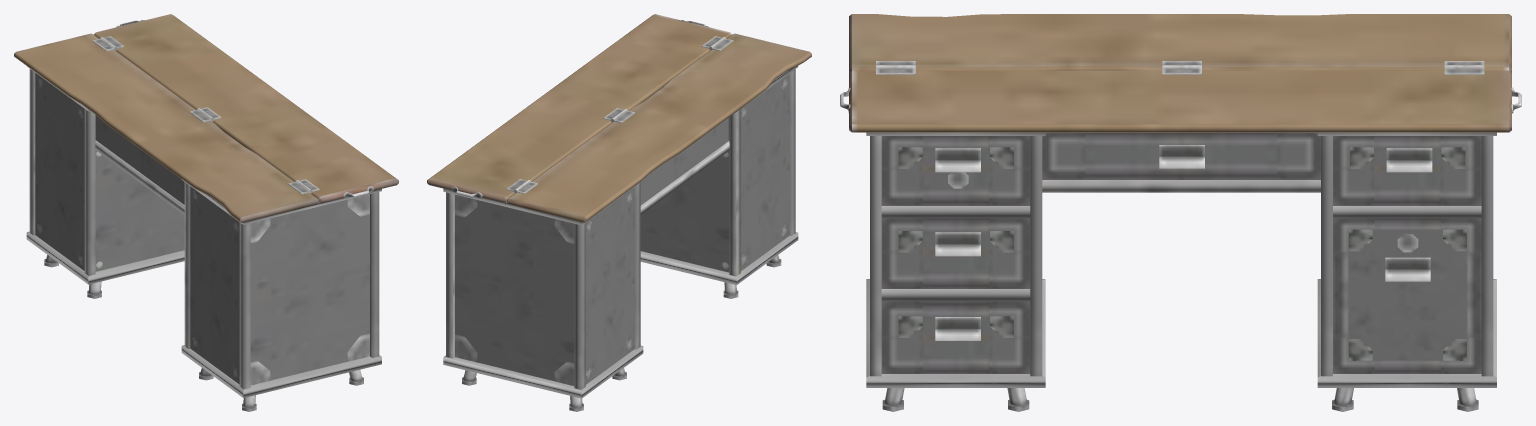
Rendered from SM_AVI_Desk_01_7ebdd8.glb.
The picture shows the model from 3 angles, left to right: view 1: azimuth 30°, elevation 25°; view 2: azimuth 150°, elevation 25°; view 3: azimuth 270°, elevation 25°; orthographic projection. The views are drawn at different scales.
Bounding box in the file's own units: 0.7899 × 1 × 2.02.
Materials: 1 (1 with a texture image).
